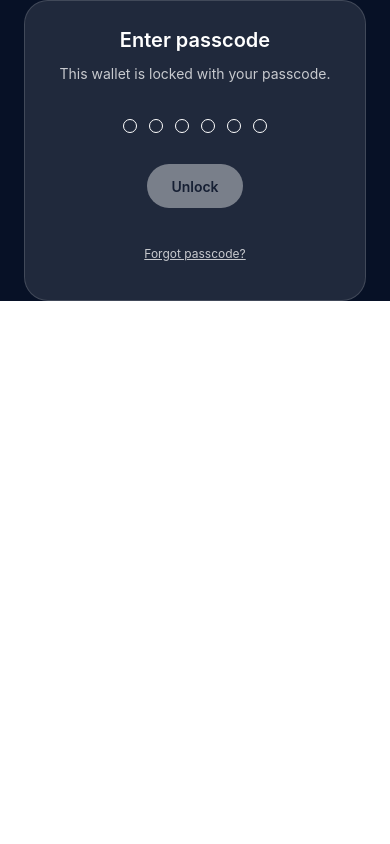
forgot-passcode reset and unsent messages › with 2 unsent messages: the screen shows the count and the effect; the delete button needs both checkboxes; Back deletes nothing
The image size is (390, 844).
Later steps or results of the test are not shown.
Click the button "Forgot passcode?" at (195, 254), box [144,232,246,276]
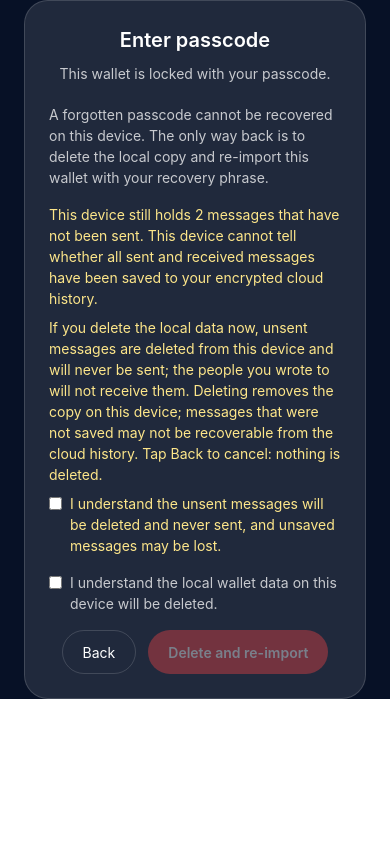
Now the message with test id "reset-unsent-warning" is shown, box [49,204,341,556]
Now the message with test id "reset-unsent-warning" shows "2 messages that have not been sent", box [49,206,340,307]
Now the message with test id "reset-unsent-warning" shows "will never be sent", box [49,319,340,483]
Click the 2nd checkbox at (56, 582), box [49,576,62,589]
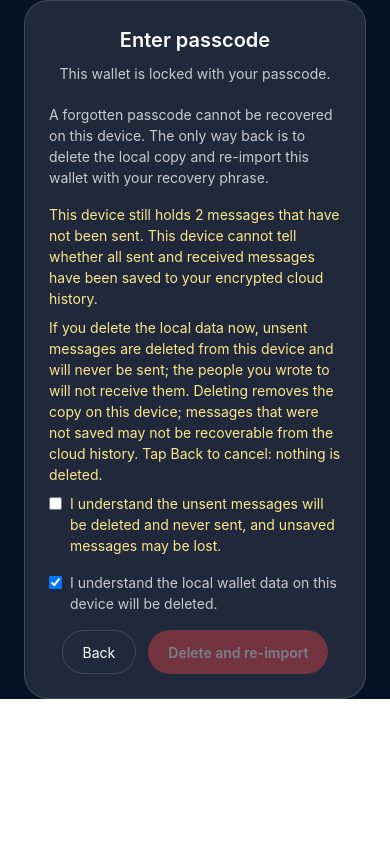
Now the button "Delete and re-import" is disabled, box [148,630,328,674]
